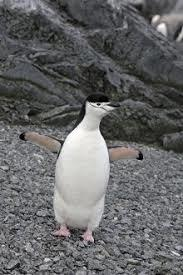chinstrap: (15, 83, 147, 246)
